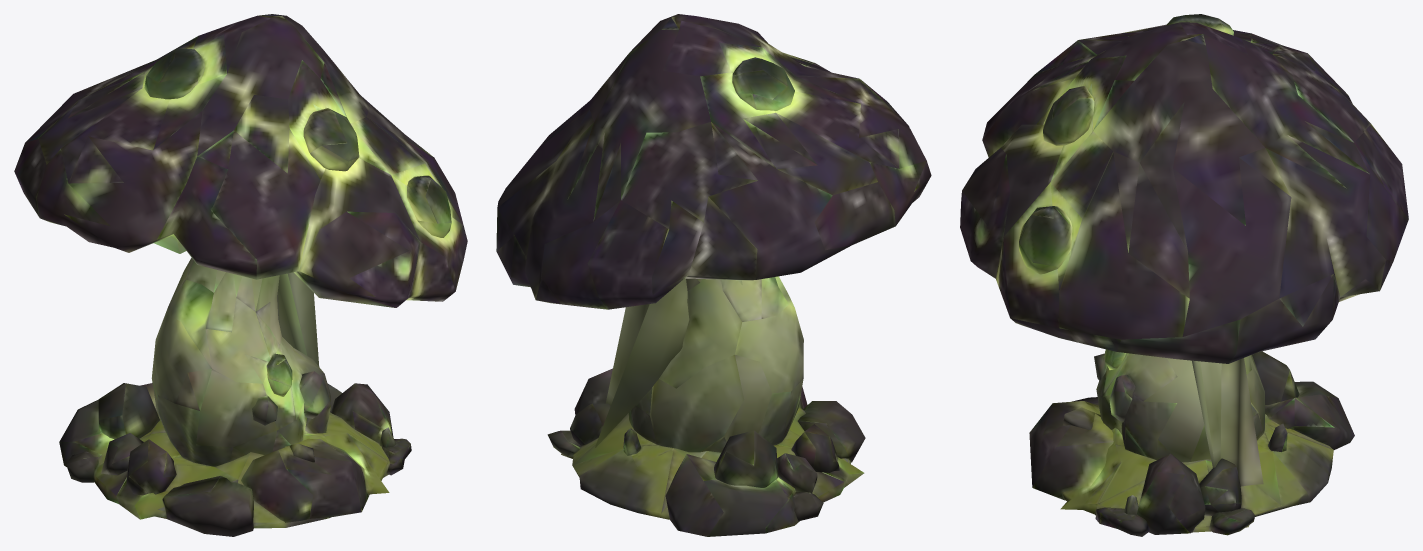
The model's file is toxic_mushroom_1_low.glb.
3 renders of one model, left to right at view 1: azimuth 30°, elevation 25°; view 2: azimuth 150°, elevation 25°; view 3: azimuth 270°, elevation 25°, orthographic. The views are drawn at different scales.
Parts seen in each view (by area): view 1: Mesh_0.015; view 2: Mesh_0.015; view 3: Mesh_0.015.
Boxes of the visible parts, x1,y1,x2,y2 form: Mesh_0.015: (14, 14, 467, 536); Mesh_0.015: (496, 14, 931, 536); Mesh_0.015: (960, 14, 1408, 536).
Size of the model in its own units: 0.9258 by 1 by 0.9102.
Materials: 1 (1 with a texture image).
